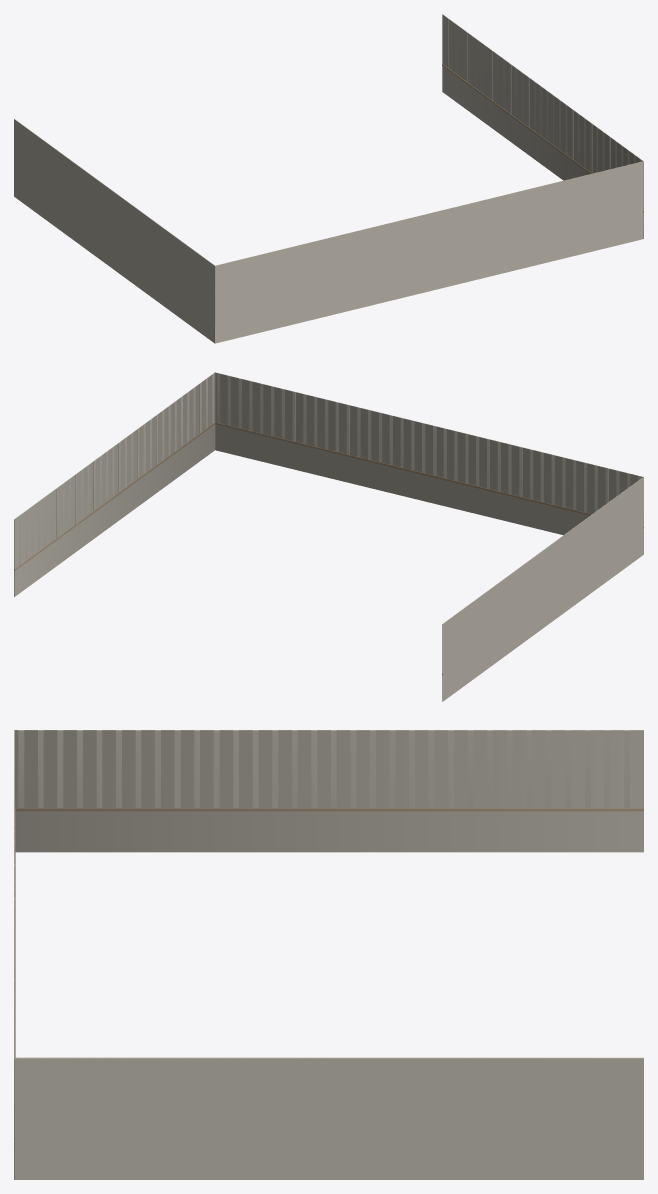
File: home_wallpaper_s4__cream.glb
The picture shows the model from 3 angles, top to bottom: view 1: azimuth 30°, elevation 25°; view 2: azimuth 150°, elevation 25°; view 3: azimuth 270°, elevation 25°; orthographic projection. The views are drawn at different scales.
Bounding box in the file's own units: 15.9 × 2.75 × 12.9.
